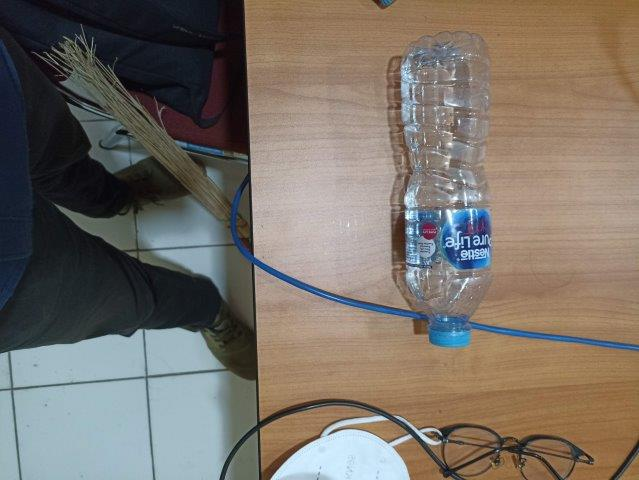botolplastik: (401, 32, 493, 344)
